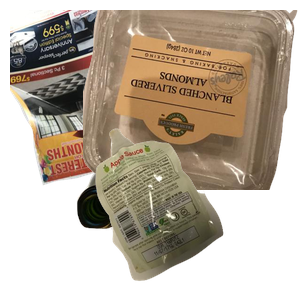glass: (74, 158, 223, 300)
paper: (10, 10, 241, 188)
plastic: (83, 10, 300, 190)
trash: (93, 126, 300, 300)
